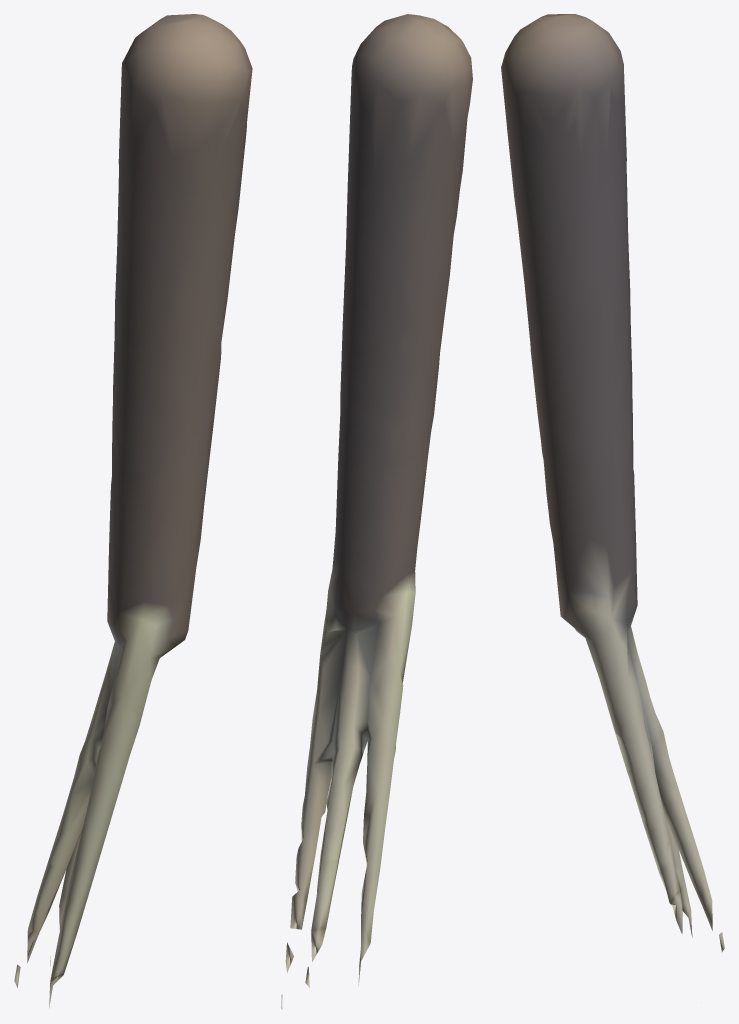
The model's file is husk_farm_r.glb.
3 renders of one model, left to right at view 1: azimuth 90°, elevation 25°; view 2: azimuth 150°, elevation 25°; view 3: azimuth 270°, elevation 25°, orthographic. The views are drawn at different scales.
Visible parts, largest first — view 1: geometry_0; view 2: geometry_0; view 3: geometry_0.
Part boxes in pixels (x1,y1,x2,y2): geometry_0: [14, 14, 252, 1008]; geometry_0: [281, 14, 472, 1009]; geometry_0: [501, 14, 724, 952].
Size of the model in its own units: 0.1546 by 1.21 by 0.2557.
